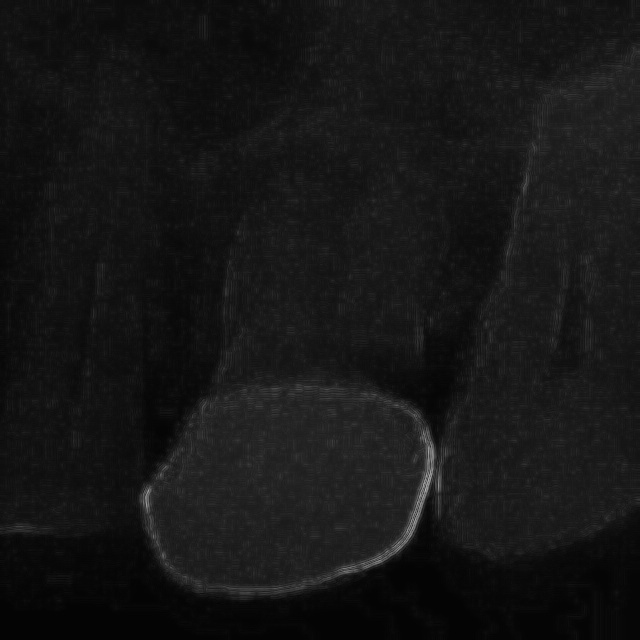cavity: (133, 45, 505, 613)
